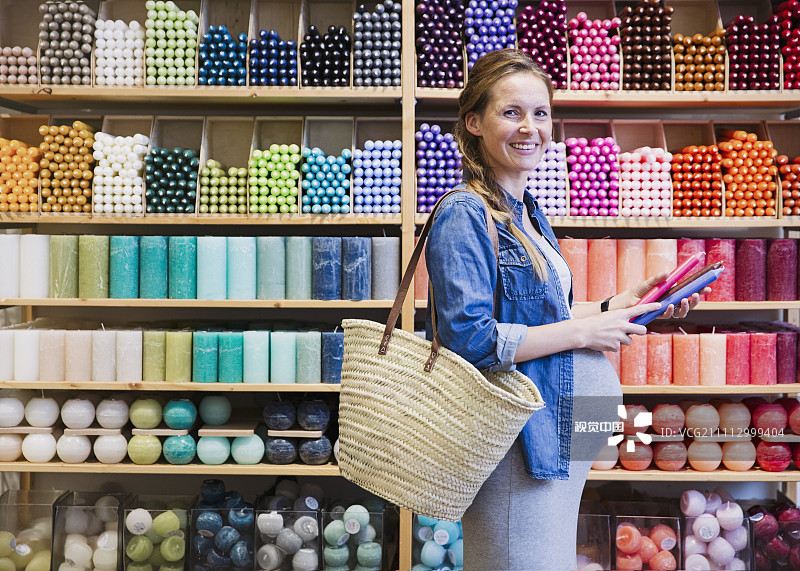no-phone: (567, 297, 670, 353), (623, 265, 717, 319)
